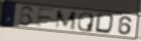6: (19, 5, 34, 27), (118, 16, 133, 36)
D: (94, 12, 117, 36)
F: (35, 7, 58, 28)
M: (54, 10, 78, 31)
Q: (77, 11, 94, 33)
